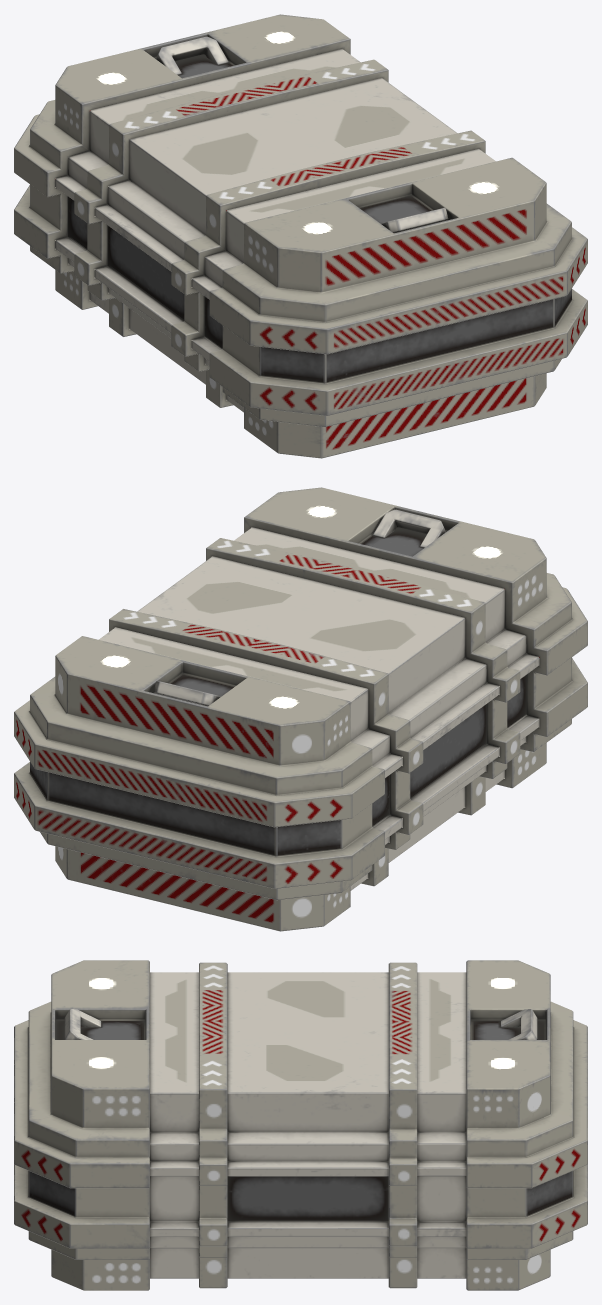
Rendered from SM_Crates3pt1-2.fbx.
3 views of the same model, one above another, from view 1: azimuth 30°, elevation 25°; view 2: azimuth 150°, elevation 25°; view 3: azimuth 270°, elevation 25° (orthographic). The views are drawn at different scales.
Visible parts, largest first — view 1: SM_Crates3pt1-2_LOD0; view 2: SM_Crates3pt1-2_LOD0; view 3: SM_Crates3pt1-2_LOD0.
Part boxes in pixels (<box>): SM_Crates3pt1-2_LOD0: <box>14,14,587,458</box>; SM_Crates3pt1-2_LOD0: <box>14,487,587,931</box>; SM_Crates3pt1-2_LOD0: <box>14,960,587,1290</box>.
Bounding box in the file's own units: 61.81 × 37.8 × 92.68.
Materials: 1 (1 with a texture image).
